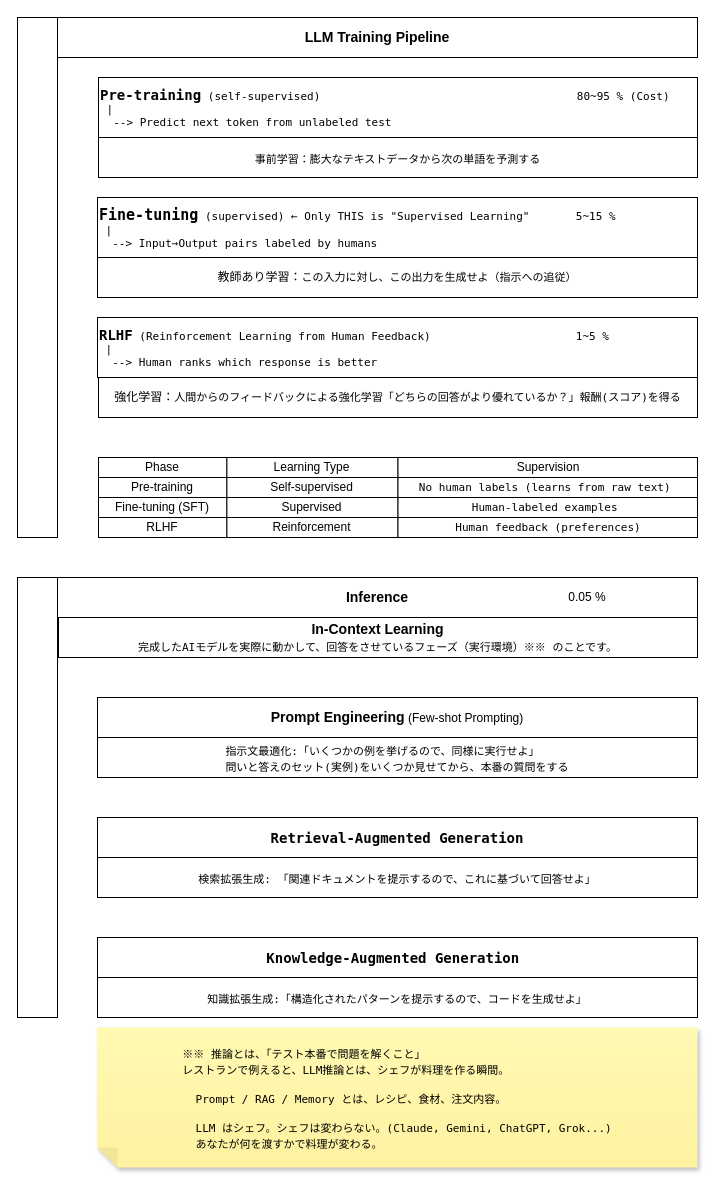
This 721x1192 diagram has some shape labels left out. The centre of each missing label's shape, as x and y in pixels:
"L L M" belongs at pixel 37 277.
"L L M 推 論" belongs at pixel 37 797.
